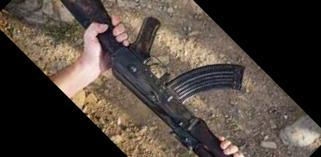larga: (61, 0, 246, 157)
